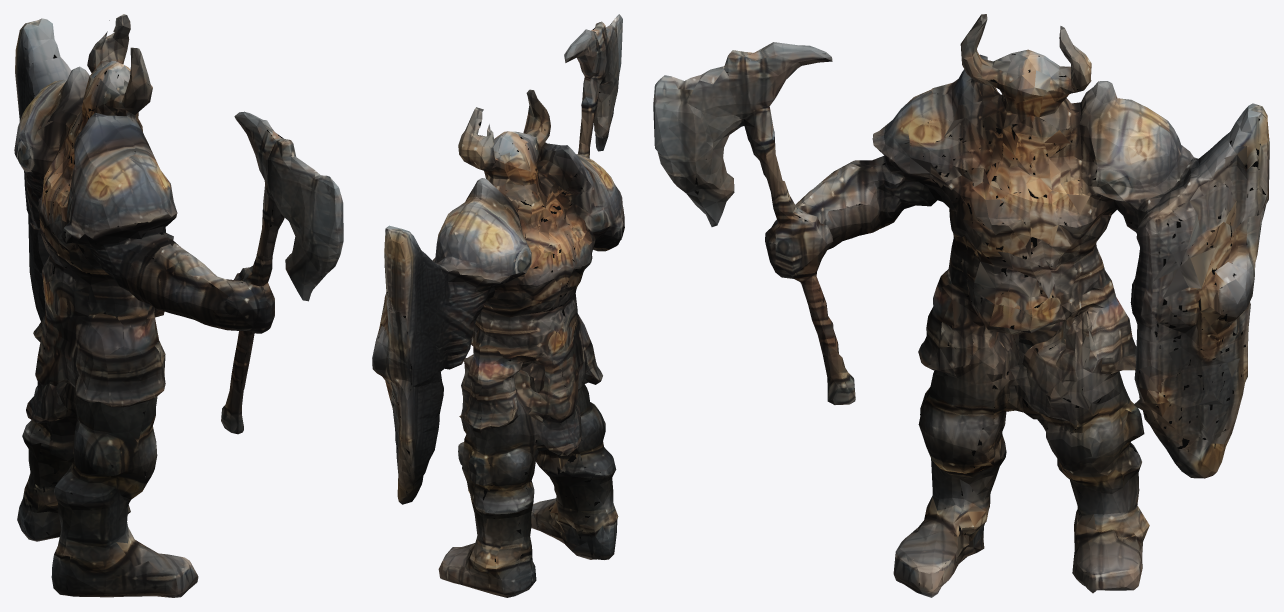
File: minion_melee_1.glb
3 renders of one model, left to right at view 1: azimuth 30°, elevation 25°; view 2: azimuth 150°, elevation 25°; view 3: azimuth 270°, elevation 25°, orthographic. The views are drawn at different scales.
Visible parts, largest first — view 1: test (9); view 2: test (9); view 3: test (9).
Part boxes in pixels (x1,y1,x2,y2): test (9): (14, 14, 343, 597); test (9): (372, 14, 624, 597); test (9): (653, 14, 1269, 597).
Bounding box in the file's own units: 0.6743 × 2 × 1.98.
Materials: 1 (1 with a texture image).
